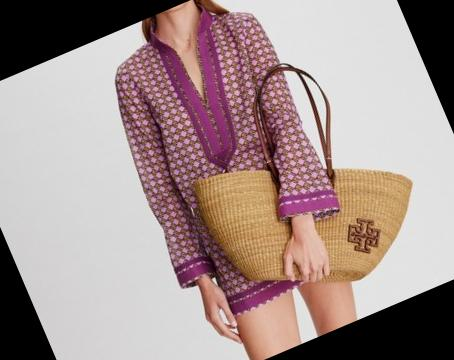TORY-BURCH: (342, 211, 387, 259)
